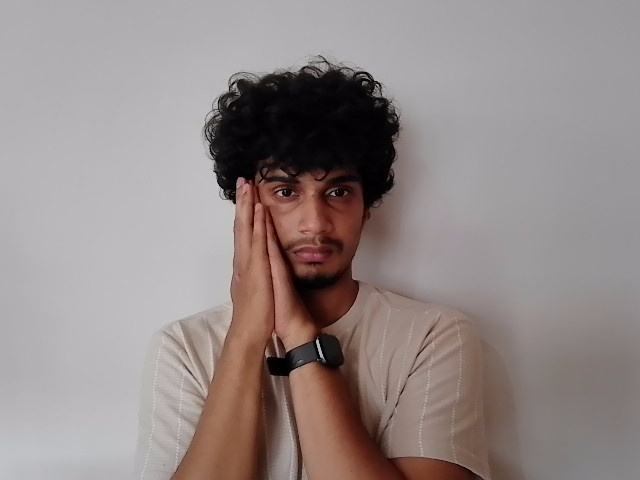sleep: (229, 176, 313, 327)
